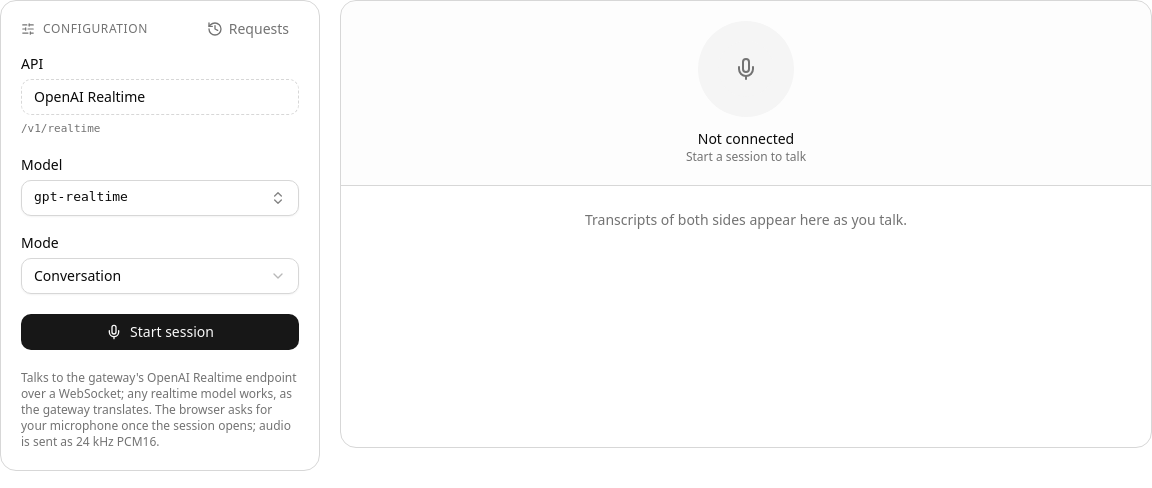
RealtimeTab › explains a session the gateway refused
Click the button "Start session": (160, 332) x1=21 y1=314 x2=299 y2=350
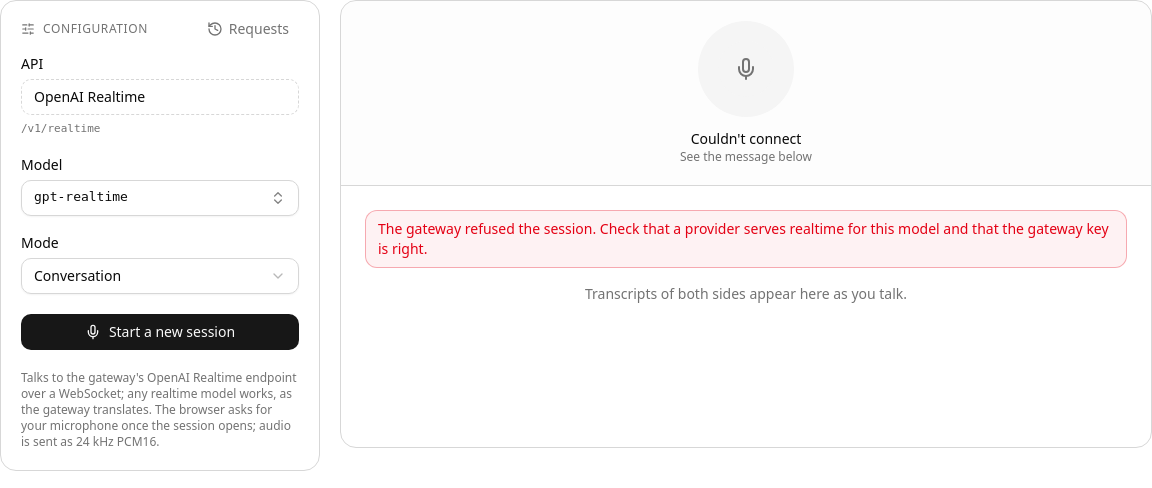
Expected: the 2nd message shows "refused the session", x1=378 y1=219 x2=1109 y2=258
Expected: the button "Start a new session" is shown, x1=21 y1=314 x2=299 y2=350
